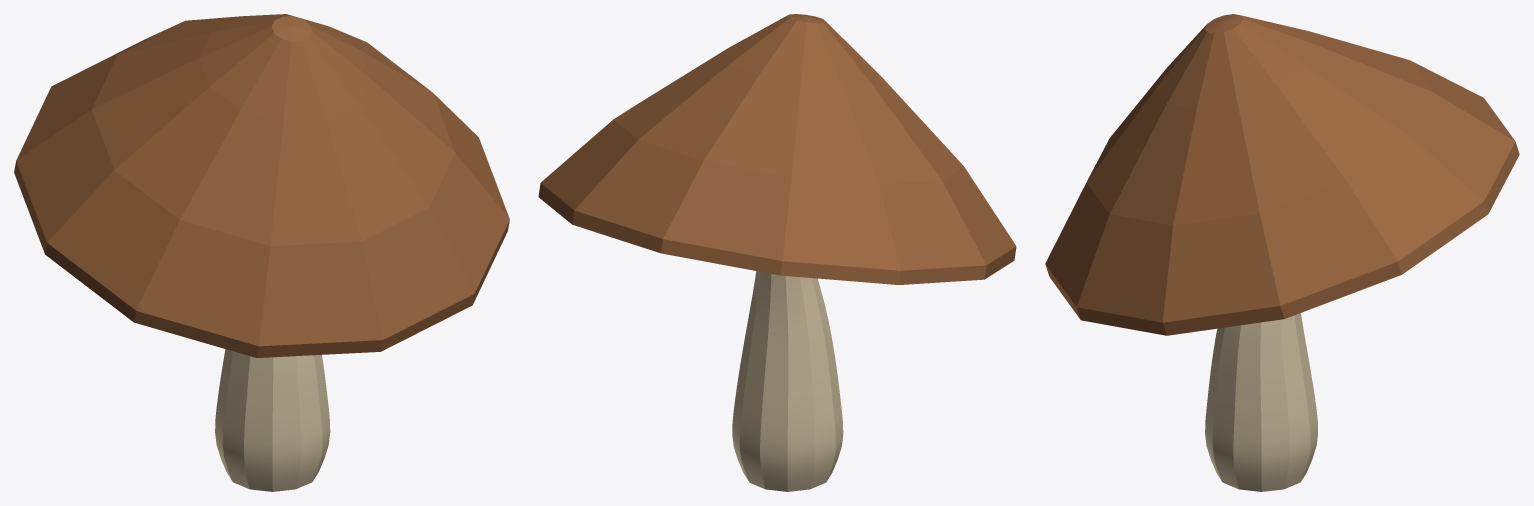
3 views of the same model, side by side, from view 1: azimuth 30°, elevation 25°; view 2: azimuth 150°, elevation 25°; view 3: azimuth 270°, elevation 25° (orthographic). The views are drawn at different scales.
Parts seen in each view (by area): view 1: cap, stem; view 2: cap, stem; view 3: cap, stem.
Part boxes in pixels (<box>): cap: <box>14,14,509,357</box>; stem: <box>215,349,330,491</box>; cap: <box>538,14,1016,284</box>; stem: <box>732,271,843,491</box>; cap: <box>1045,14,1519,335</box>; stem: <box>1205,313,1317,491</box>.
Size of the model in its own units: 0.0978 by 0.1001 by 0.0948.
